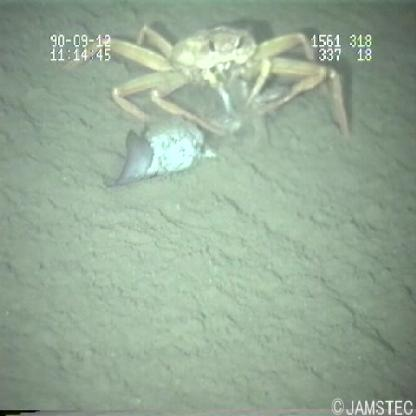Bio: (56, 20, 354, 190)
